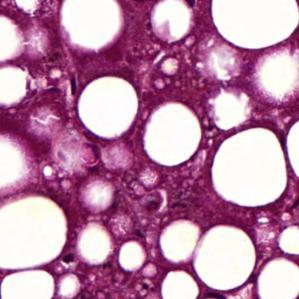steatosis: (208, 127, 294, 210), (145, 95, 204, 167), (75, 75, 138, 135)
